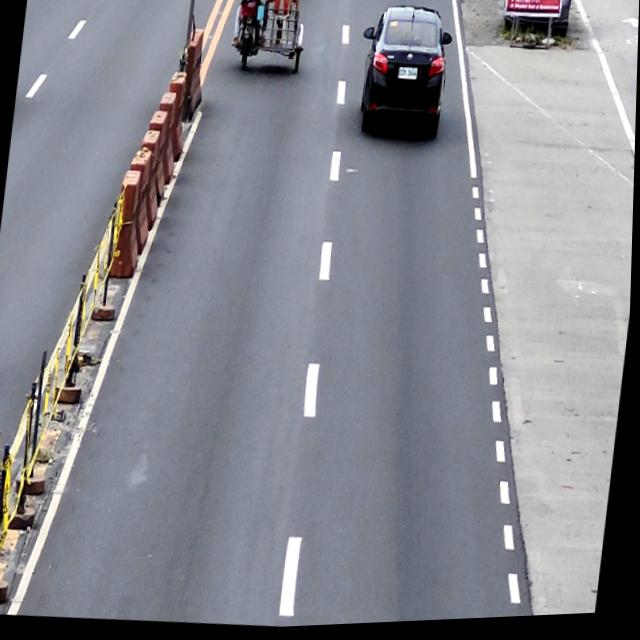Car: (351, 5, 457, 147)
License-Plate: (397, 69, 419, 83)
Tricycle: (233, 0, 309, 77)
